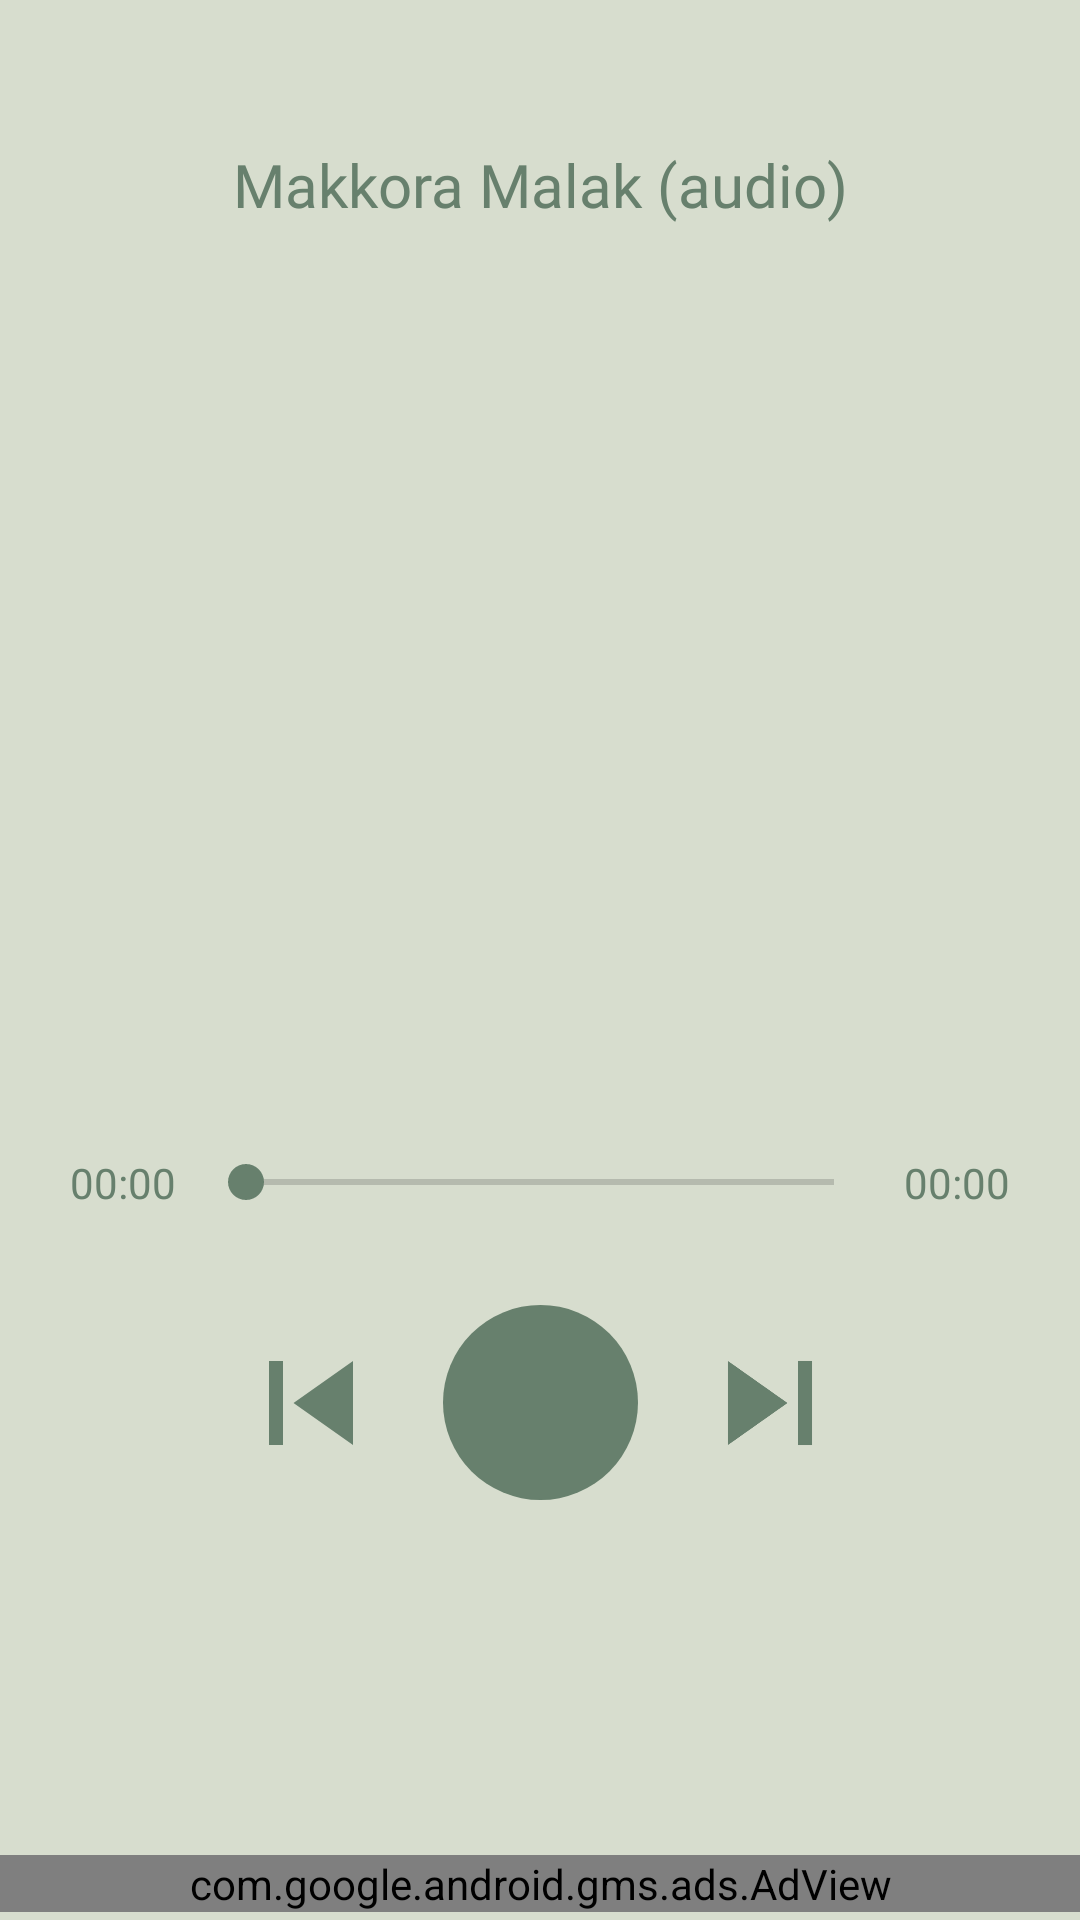

Point at icon controls on the screen. Image size 1080x1920, points as [x,y].
skip next: [770,1403]
skip prev: [311,1403]
